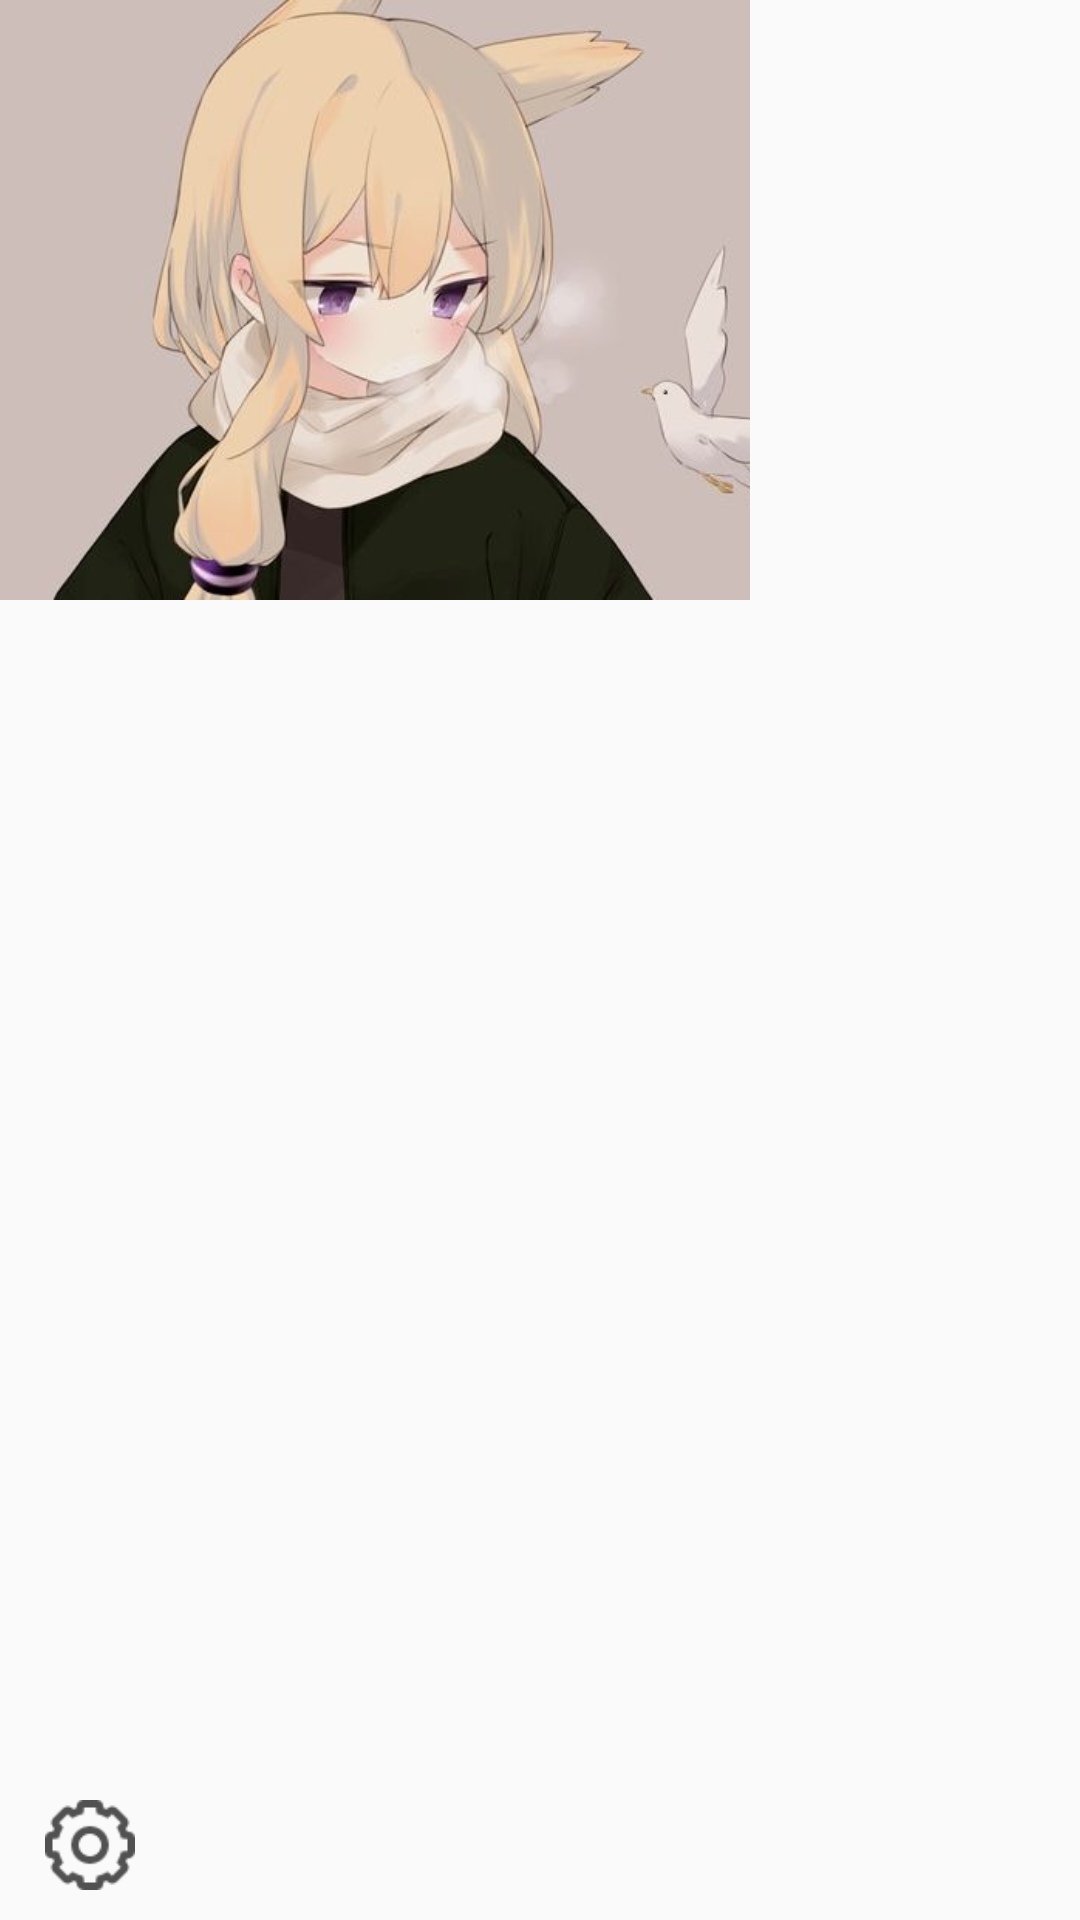

Screen size 1080x1920. Icon name, then its center in pixels as (x,y):
navsetting: (90,1845)
